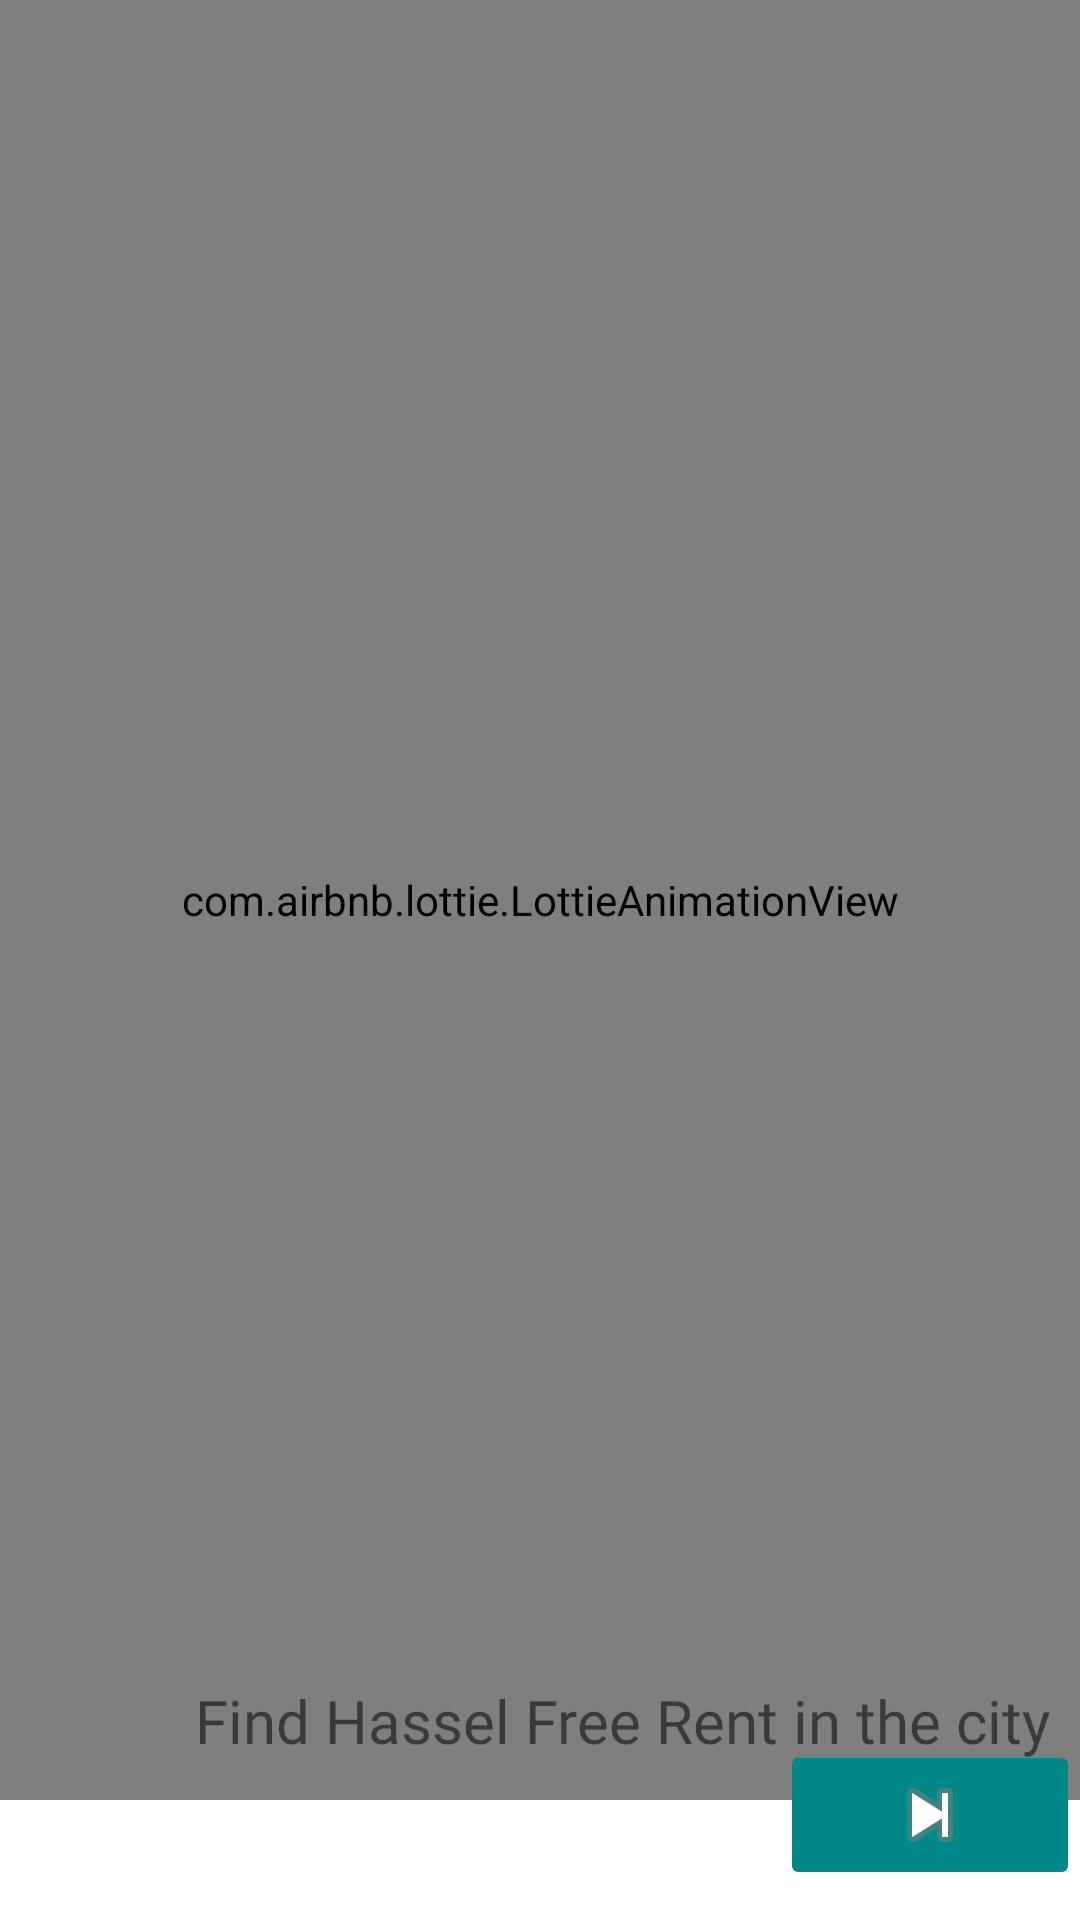

Icon click points for this 1080x1920 phone screenshot, format (x,y):
next: (930,1815)
